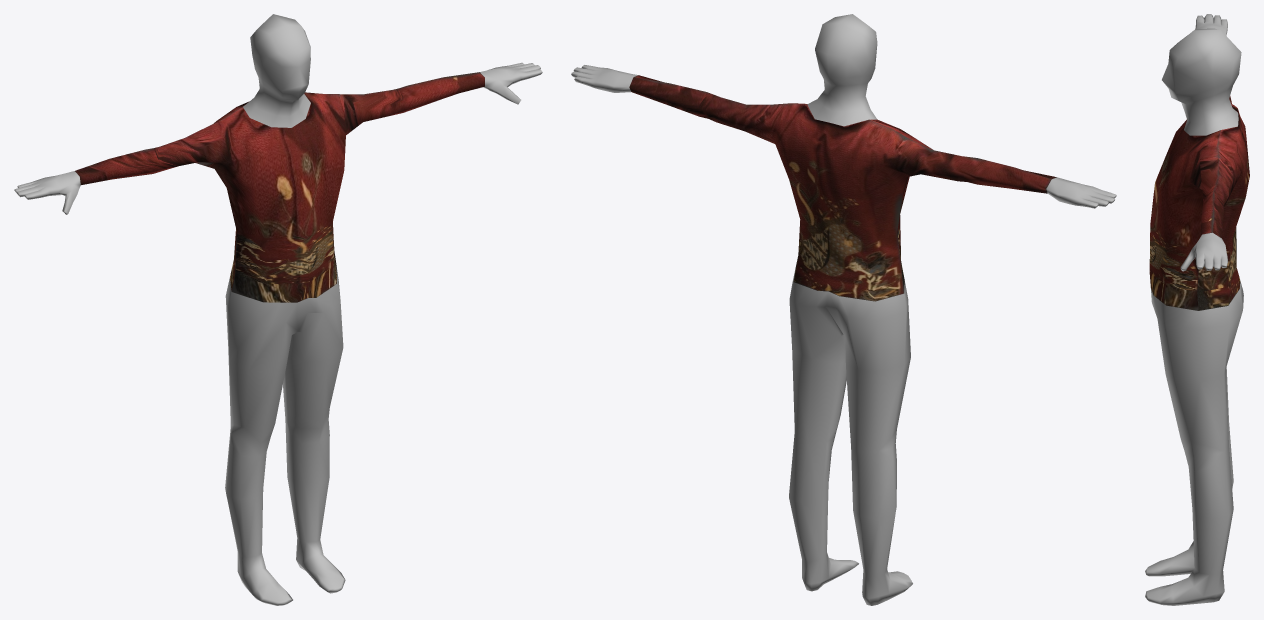
Rendered from batik1.fbx.
The picture shows the model from 3 angles, left to right: view 1: azimuth 30°, elevation 25°; view 2: azimuth 150°, elevation 25°; view 3: azimuth 270°, elevation 25°; orthographic projection. The views are drawn at different scales.
Visible parts, largest first — view 1: body_low, head_low, hand_R_low, hand_L_low; view 2: body_low, head_low, hand_R_low, hand_L_low; view 3: body_low, head_low, hand_L_low, hand_R_low.
Boxes of the visible parts, x1,y1,x2,y2 form: body_low: (75,72,484,605); head_low: (243,14,310,127); hand_R_low: (14,171,80,214); hand_L_low: (480,62,542,104); body_low: (629,75,1056,605); head_low: (807,14,877,126); hand_R_low: (1046,177,1116,208); hand_L_low: (571,65,638,92); body_low: (1145,96,1249,605); head_low: (1162,28,1241,135); hand_L_low: (1180,232,1227,271); hand_R_low: (1195,14,1227,35).
Bounding box in the file's own units: 176 × 180 × 30.82.
3 materials, 2 textured.
